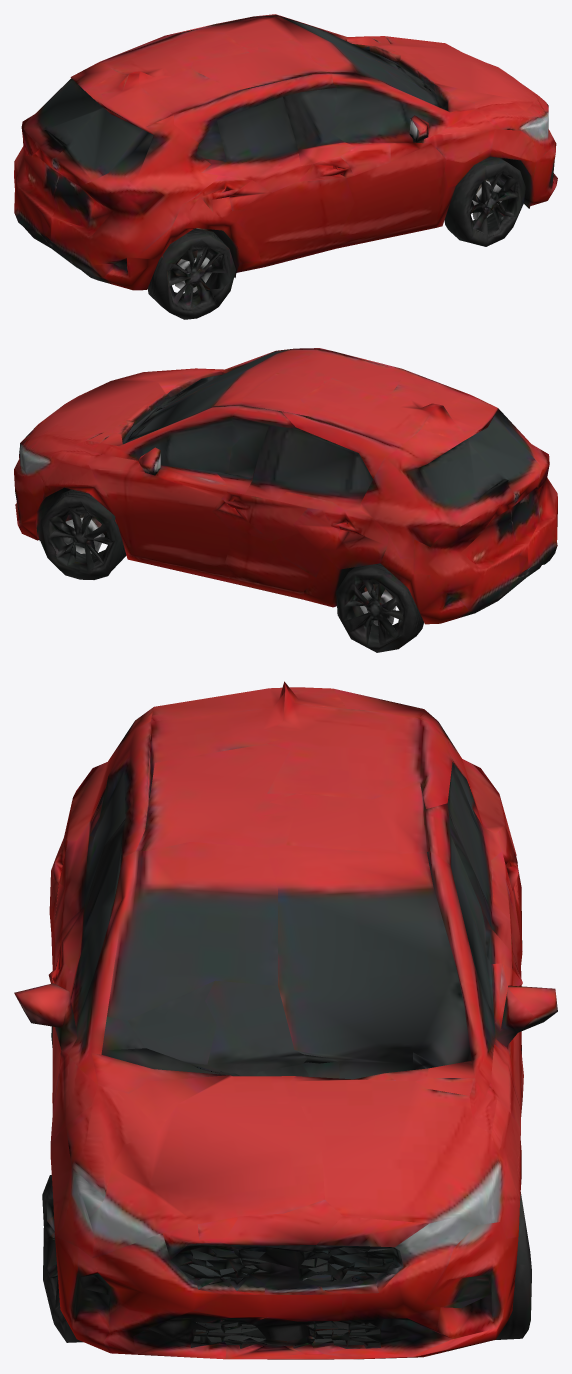
File: car-hatch-lod.glb
The picture shows the model from 3 angles, top to bottom: view 1: azimuth 30°, elevation 25°; view 2: azimuth 150°, elevation 25°; view 3: azimuth 270°, elevation 25°; orthographic projection. The views are drawn at different scales.
Visible parts, largest first — view 1: tripo_node_0899b2fc-c136-4af8-a3b2-10d2411d33e1; view 2: tripo_node_0899b2fc-c136-4af8-a3b2-10d2411d33e1; view 3: tripo_node_0899b2fc-c136-4af8-a3b2-10d2411d33e1.
Part boxes in pixels (x1,y1,x2,y2): tripo_node_0899b2fc-c136-4af8-a3b2-10d2411d33e1: [14, 14, 557, 319]; tripo_node_0899b2fc-c136-4af8-a3b2-10d2411d33e1: [14, 348, 557, 652]; tripo_node_0899b2fc-c136-4af8-a3b2-10d2411d33e1: [14, 681, 557, 1359].
Size of the model in its own units: 0.9996 by 0.4048 by 0.5249.
Materials: 1 (1 with a texture image).
